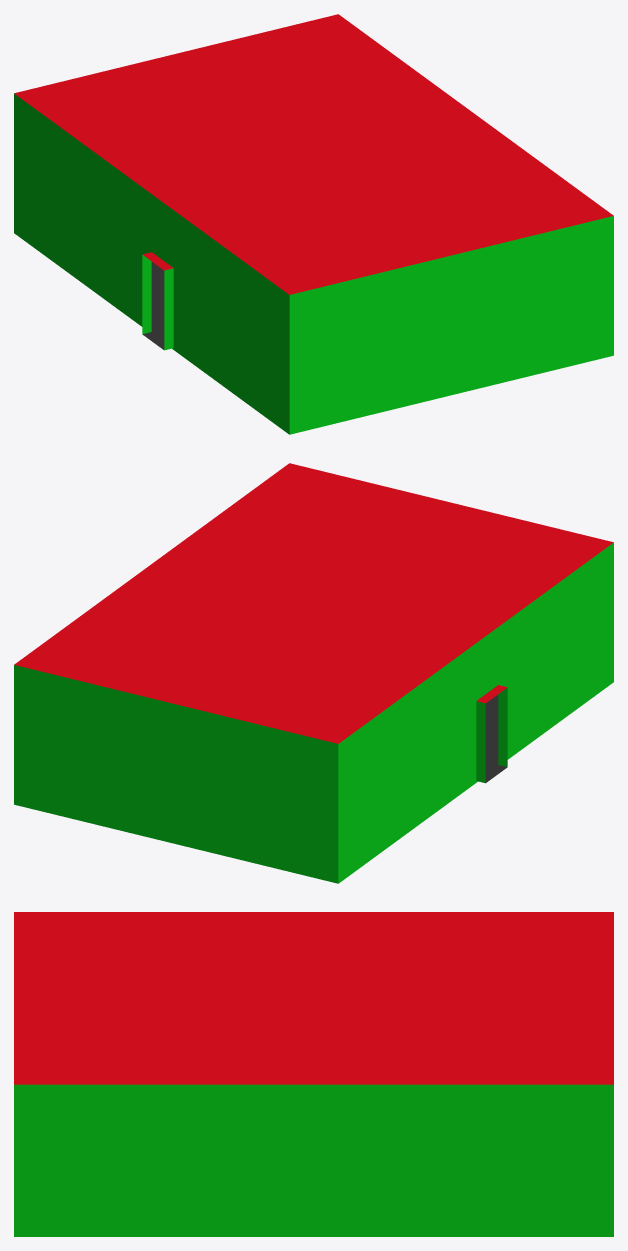
File: Nursery_BedroomMesh.gltf
3 views of the same model, one above another, from view 1: azimuth 30°, elevation 25°; view 2: azimuth 150°, elevation 25°; view 3: azimuth 270°, elevation 25° (orthographic). The views are drawn at different scales.
Visible parts, largest first — view 1: Nursery_BedroomMesh2; view 2: Nursery_BedroomMesh2; view 3: Nursery_BedroomMesh2.
Part boxes in pixels (x1,y1,x2,y2): Nursery_BedroomMesh2: (14, 14, 613, 434); Nursery_BedroomMesh2: (14, 463, 613, 883); Nursery_BedroomMesh2: (14, 912, 613, 1236).
Bounding box in the file's own units: 17.5 × 7 × 25.
